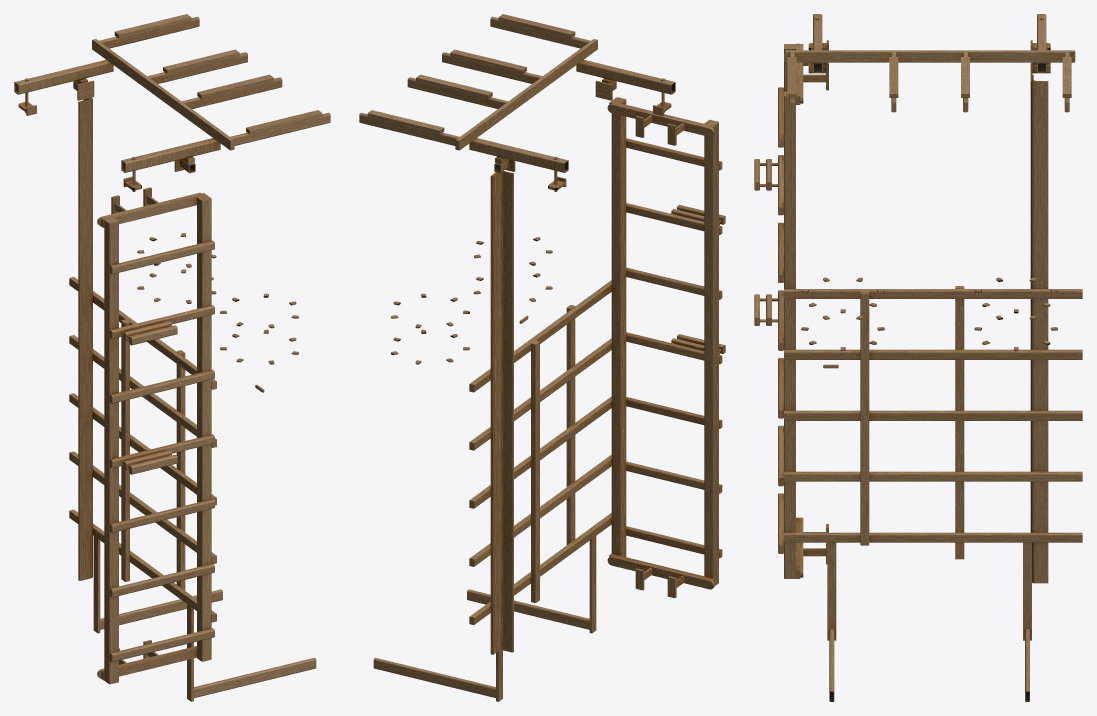
3 renders of one model, left to right at view 1: azimuth 30°, elevation 25°; view 2: azimuth 150°, elevation 25°; view 3: azimuth 270°, elevation 25°, orthographic. The views are drawn at different scales.
Visible parts, largest first — view 1: 9_右支架（支架部分）; view 2: 9_右支架（支架部分）; view 3: 9_右支架（支架部分）.
Boxes of the visible parts, x1,y1,x2,y2 form: 9_右支架（支架部分）: (14,14,330,701); 9_右支架（支架部分）: (359,14,725,701); 9_右支架（支架部分）: (754,14,1082,701).
Bounding box in the file's own units: 47.63 × 113 × 55.88.
Materials: 1 (1 with a texture image).
